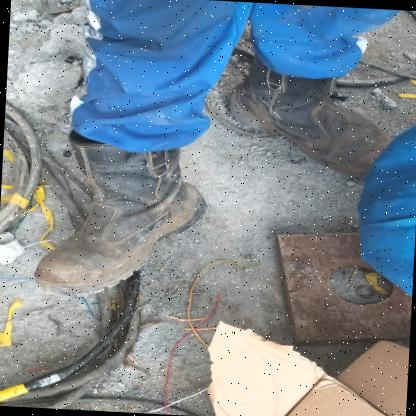bota: (32, 124, 206, 302), (210, 42, 402, 181)
